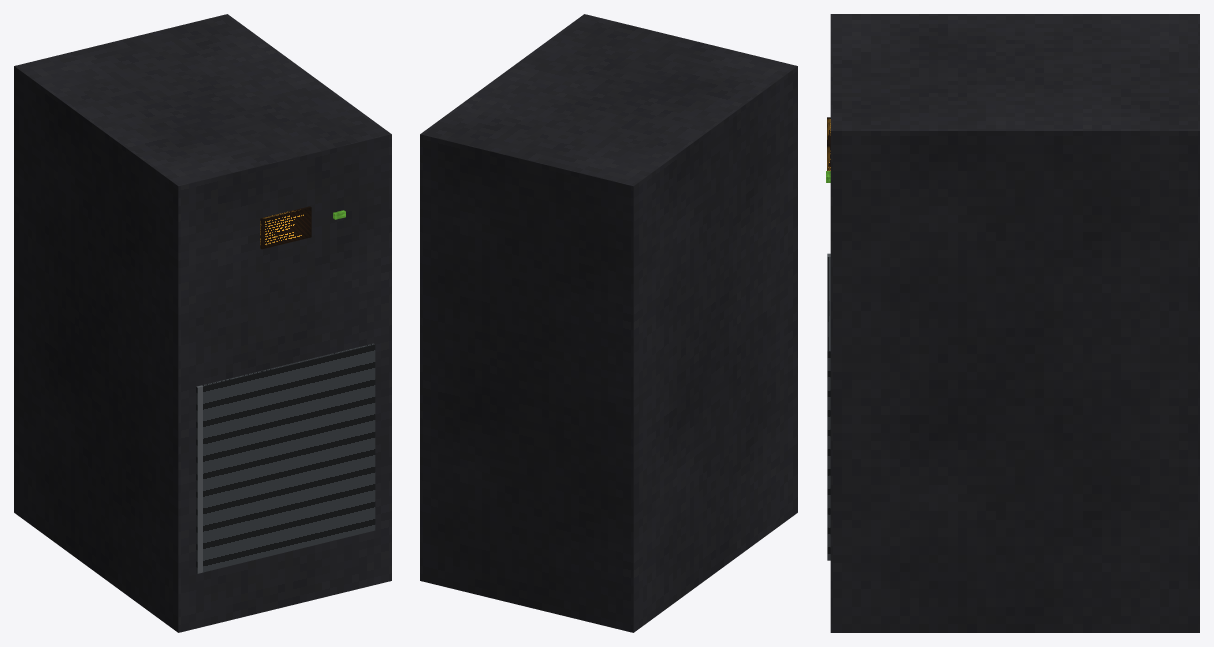
Rendered from tfg_ups_cabinet.glb.
3 views of the same model, side by side, from view 1: azimuth 30°, elevation 25°; view 2: azimuth 150°, elevation 25°; view 3: azimuth 270°, elevation 25° (orthographic). The views are drawn at different scales.
Visible parts, largest first — view 1: tfg_ups_cabinet; view 2: tfg_ups_cabinet; view 3: tfg_ups_cabinet.
Boxes of the visible parts, x1,y1,x2,y2 form: tfg_ups_cabinet: (14,14,391,632); tfg_ups_cabinet: (420,14,797,632); tfg_ups_cabinet: (826,14,1199,632).
Bounding box in the file's own units: 0.6 × 1.2 × 0.81.
Materials: 4 (4 with a texture image).
